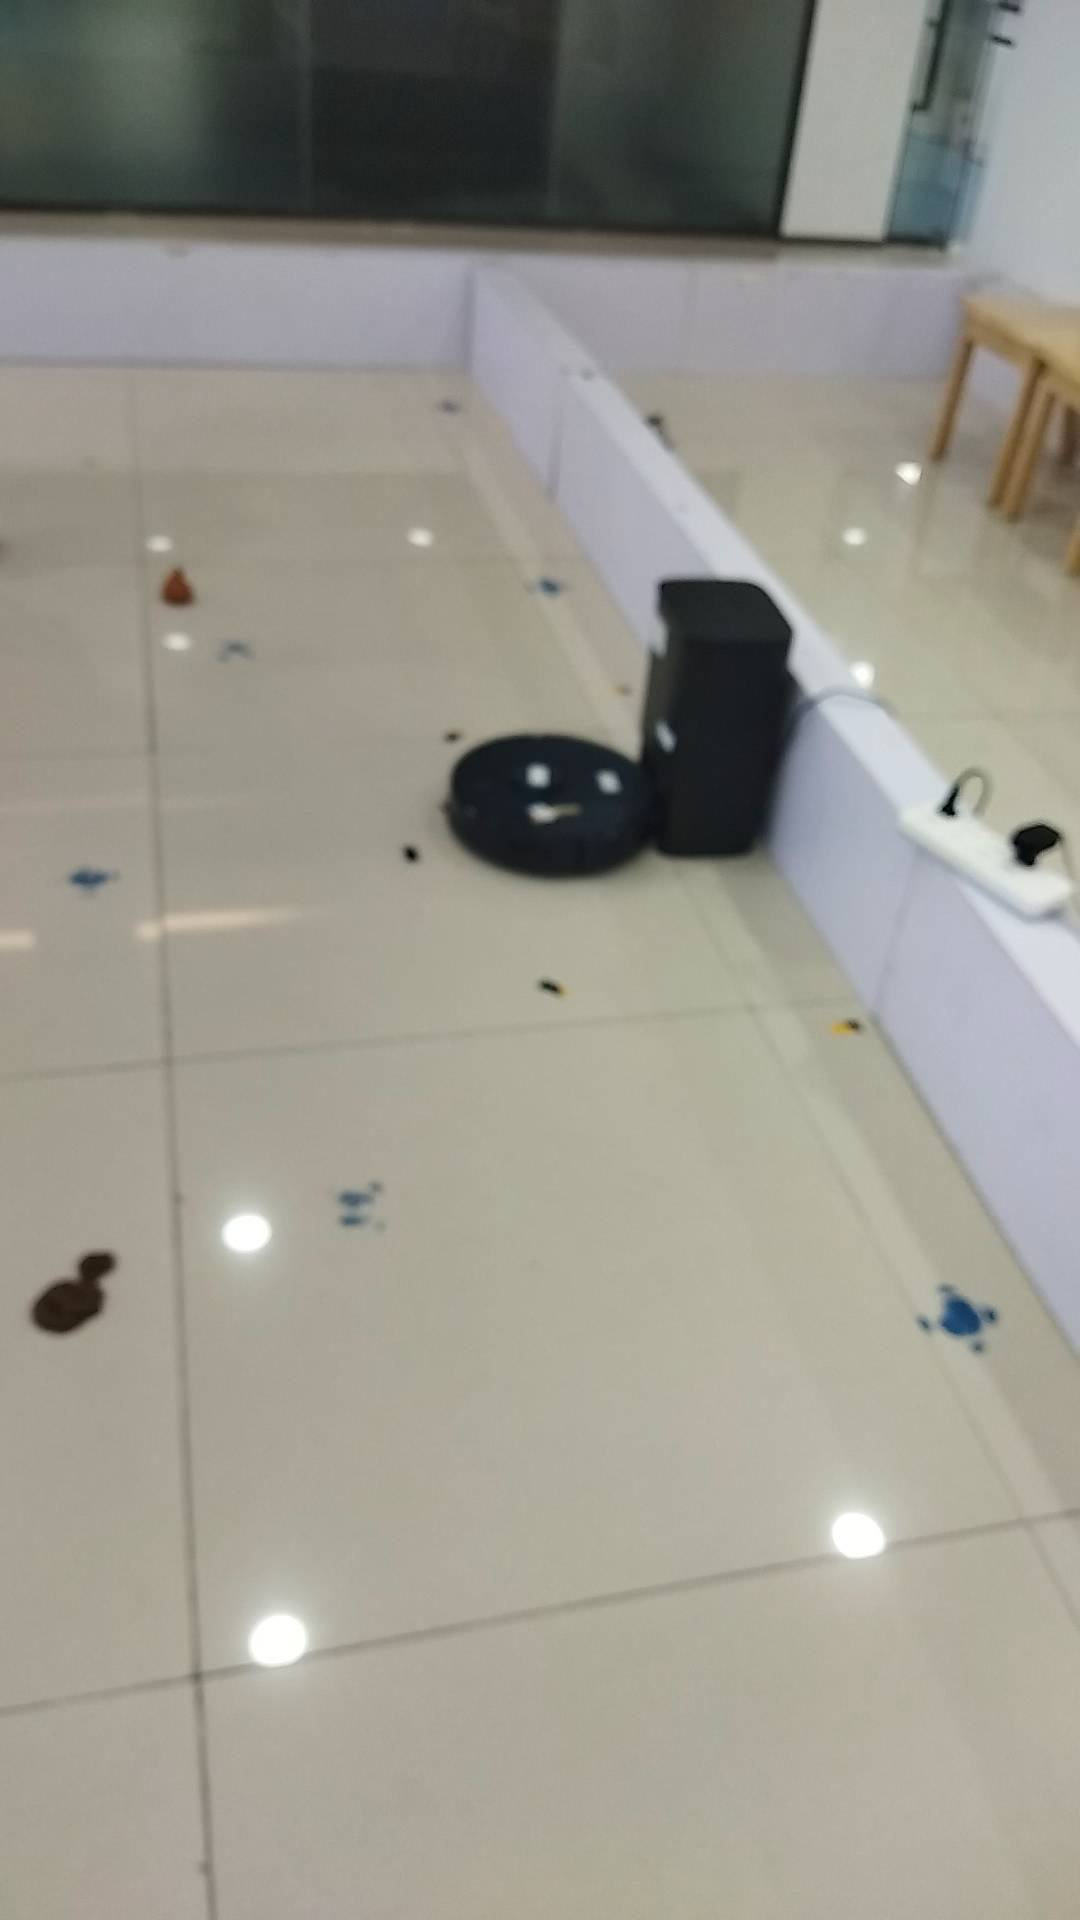dust collecting barrel: (641, 574, 793, 861)
